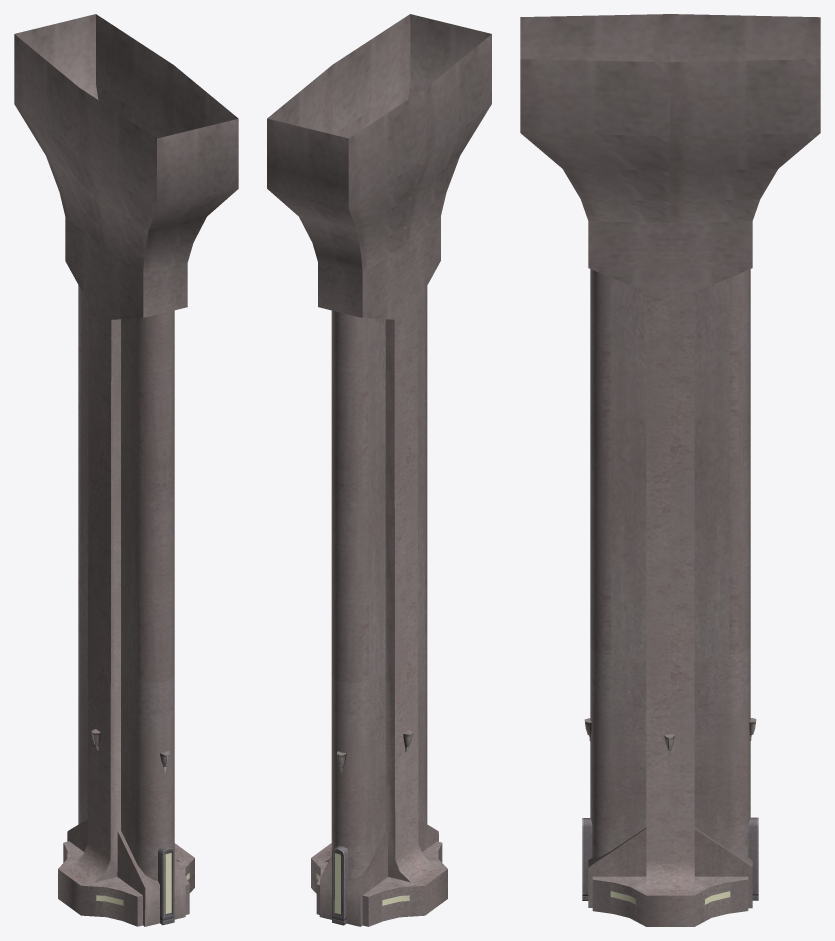
The model's file is Cor1_prop_piller.fbx.
3 renders of one model, left to right at view 1: azimuth 30°, elevation 25°; view 2: azimuth 150°, elevation 25°; view 3: azimuth 270°, elevation 25°, orthographic. The views are drawn at different scales.
Visible parts, largest first — view 1: piller_0ne1, cube71; view 2: piller_0ne1, cube72; view 3: piller_0ne1, cube72, cube71.
Boxes of the visible parts, bbox=[...] form: piller_0ne1: bbox=[14, 14, 238, 926]; cube71: bbox=[158, 846, 174, 925]; piller_0ne1: bbox=[267, 14, 491, 926]; cube72: bbox=[332, 846, 348, 925]; piller_0ne1: bbox=[520, 14, 820, 926]; cube72: bbox=[748, 817, 758, 900]; cube71: bbox=[582, 818, 592, 900].
Bounding box in the file's own units: 4.52 × 30.92 × 9.8.
